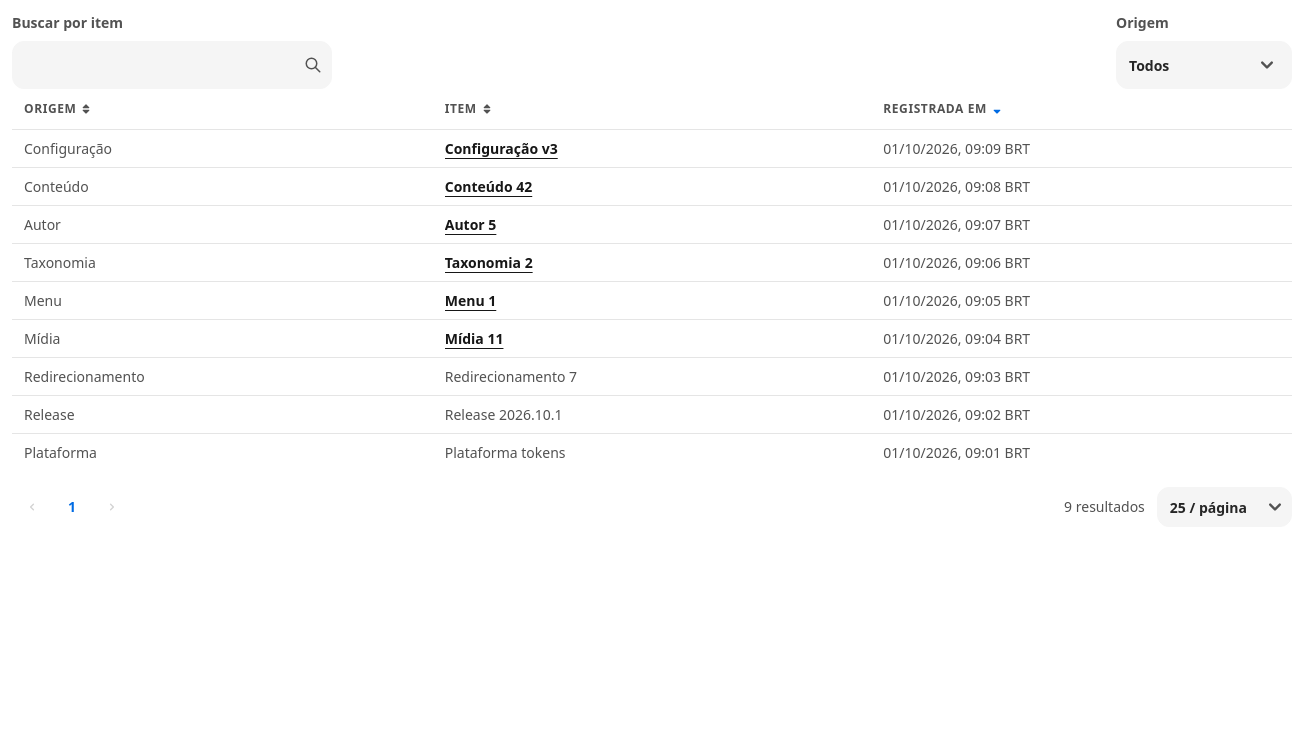
Test: busca, filtro, ordem e paginação (#365) › busca pelo texto exibido do item, sem diferenciar maiúsculas e acentos
The image size is (1304, 732).
Type "configuracao V3" into the search field labelled "Buscar por item". click: (172, 65)
box: [12,41,332,89]
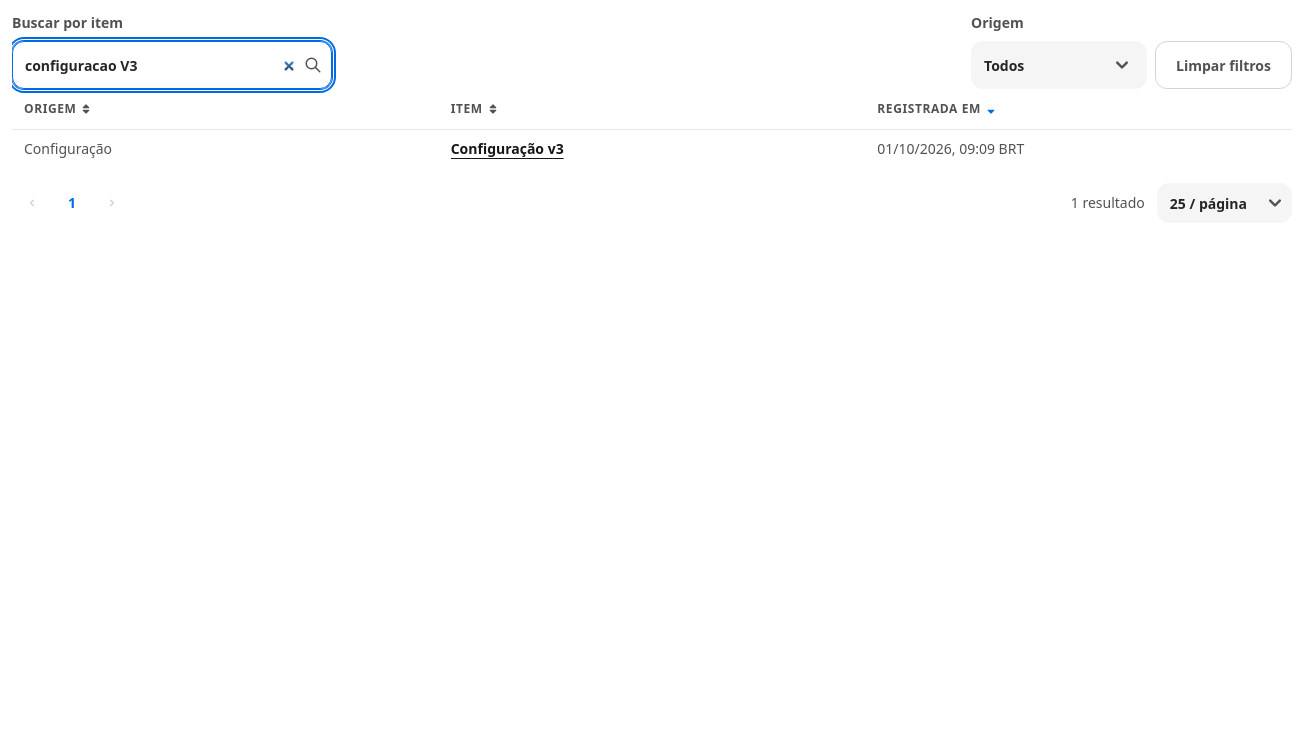
Check: the message reads "1 resultado", box [1071,193,1145,212]
